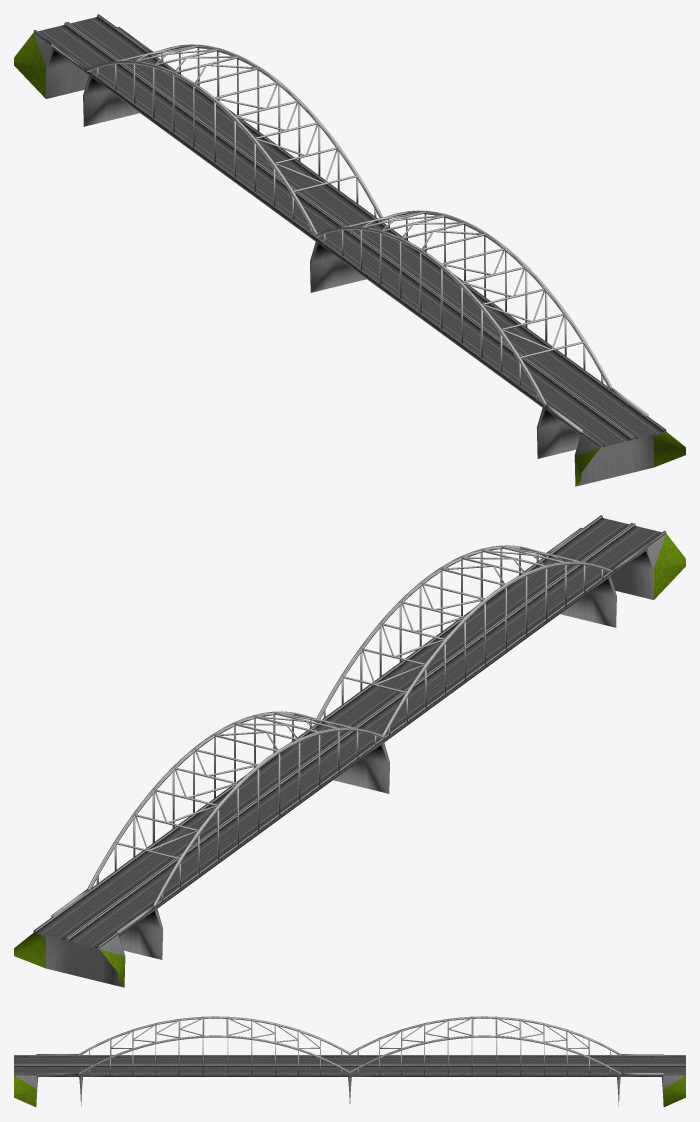
Rendered from brug_snelweg_1d2_met_talud.fbx.
3 renders of one model, top to bottom at view 1: azimuth 30°, elevation 25°; view 2: azimuth 150°, elevation 25°; view 3: azimuth 270°, elevation 25°, orthographic. The views are drawn at different scales.
Parts seen in each view (by area): view 1: brug_snelweg_1d2_met_talud; view 2: brug_snelweg_1d2_met_talud; view 3: brug_snelweg_1d2_met_talud.
Part boxes in pixels (x1,y1,x2,y2): brug_snelweg_1d2_met_talud: (14, 14, 685, 486); brug_snelweg_1d2_met_talud: (14, 515, 685, 987); brug_snelweg_1d2_met_talud: (14, 1016, 685, 1107).
Bounding box in the file's own units: 3200 × 3448 × 30010.
